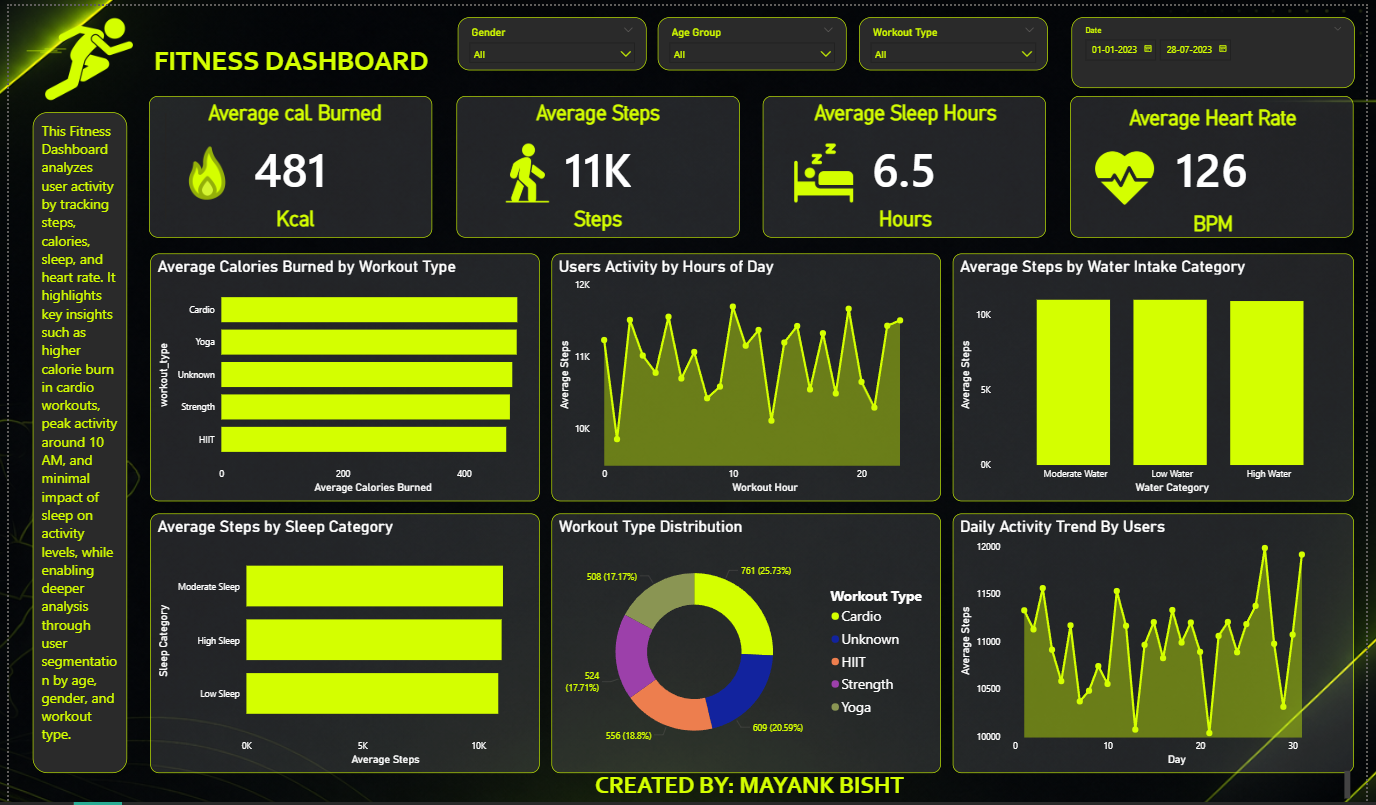

The dashboard page shown, as its layout file describes it:
{"tool":"powerbi","page":{"name":"Page 2","canvas":[1840,1080],"ordinal":0},"visuals":[{"type":"group","id":"g1","title":"Group 7","box":[608,16,256,72],"z":0,"group":"g5"},{"type":"slicer","fields":{"Values":["fitness_cleaned_dataset.Gender Cleaned"]},"box":[608,16,256,72],"z":0,"group":"g1"},{"type":"slicer","fields":{"Values":["fitness_cleaned_dataset.Age Group"]},"box":[880,16,256,72],"z":0,"group":"g2"},{"type":"slicer","fields":{"Values":["fitness_cleaned_dataset.workout_type"]},"box":[1152,16,256,72],"z":0,"group":"g3"},{"type":"slicer","fields":{"Values":["fitness_cleaned_dataset.date"]},"box":[1440,16,384,96],"z":0,"group":"g4"},{"type":"cardVisual","fields":{"Data":["fitness_cleaned_dataset.Average Calories Burned"]},"box":[190.4,121.6,384,192],"z":0},{"type":"group","id":"g2","title":"Group 7","box":[880,16,256,72],"z":1000,"group":"g5"},{"type":"cardVisual","fields":{"Data":["fitness_cleaned_dataset.Average Steps"]},"box":[606.4,121.6,384,192],"z":1000},{"type":"group","id":"g3","title":"Group 7","box":[1152,16,256,72],"z":2000,"group":"g5"},{"type":"cardVisual","fields":{"Data":["fitness_cleaned_dataset.Average sleep Hours"]},"box":[1022.4,121.6,384,192],"z":2000},{"type":"cardVisual","fields":{"Data":["fitness_cleaned_dataset.Average Heart Rate"]},"box":[1438.4,121.6,384,192],"z":3000},{"type":"textbox","box":[188.8,265.6,400,48],"z":4000},{"type":"barChart","title":"Average Calories Burned by Workout Type","fields":{"Category":["fitness_cleaned_dataset.workout_type"],"Y":["fitness_cleaned_dataset.Average Calories Burned"]},"box":[192,336,528,336],"z":4000,"group":"g6"},{"type":"textbox","box":[188.8,121.6,400,80],"z":5000},{"type":"areaChart","title":"Users Activity by Hours of Day","fields":{"Category":["fitness_cleaned_dataset.Workout Hour"],"Y":["fitness_cleaned_dataset.Average Steps"]},"box":[736,336,528,336],"z":5000,"group":"g6"},{"type":"textbox","box":[606.4,121.6,384,80],"z":6000},{"type":"columnChart","title":"Average Steps by Water Intake Category","fields":{"Category":["fitness_cleaned_dataset.Water Category"],"Y":["fitness_cleaned_dataset.Average Steps"]},"box":[1280,336,544,336],"z":6000,"group":"g6"},{"type":"textbox","box":[606.4,265.6,384,48],"z":7000},{"type":"barChart","fields":{"Category":["fitness_cleaned_dataset.Sleep Category"],"Y":["fitness_cleaned_dataset.Average Steps"]},"box":[192,688,528,352],"z":7000,"group":"g6"},{"type":"textbox","box":[1024,265.6,384,48],"z":8000},{"type":"donutChart","title":"Workout Type Distribution","fields":{"Y":["fitness_cleaned_dataset.Total Users"],"Category":["fitness_cleaned_dataset.workout_type"]},"box":[736,688,528,352],"z":8000,"group":"g6"},{"type":"textbox","box":[1024,121.6,384,80],"z":9000},{"type":"image","box":[638.4,185.6,128,80],"z":10000},{"type":"textbox","box":[1440,272,384,48],"z":10000,"group":"g7"},{"type":"textbox","box":[1440,128,384,80],"z":11000,"group":"g7"},{"type":"image","box":[1040,185.6,128,80],"z":11000},{"type":"image","box":[204.8,185.6,128,80],"z":12000},{"type":"group","id":"g4","title":"Group 7","box":[1440,16,384,96],"z":13000},{"type":"group","id":"g5","title":"Group 1","box":[608,16,800,72],"z":14000},{"type":"image","box":[1440,192,144,80],"z":14000,"group":"g7"},{"type":"group","id":"g6","title":"Group 2","box":[192,336,1632,704],"z":15000},{"type":"group","id":"g7","title":"Group 3","box":[1440,128,384,192],"z":16000},{"type":"textbox","box":[192,48,416,80],"z":17000},{"type":"image","box":[0,0,192,144],"z":18000},{"type":"textbox","box":[32,144,128,896],"z":20000},{"type":"textbox","box":[192,1032,1632,48],"z":20001},{"type":"areaChart","title":"Daily Activity Trend By Users","fields":{"Y":["fitness_cleaned_dataset.Average Steps"],"Category":["fitness_cleaned_dataset.date.Variation.Date Hierarchy.Day"]},"box":[1280,688,544,352],"z":21001,"group":"g6"}]}

Visuals, with their boxes in screenshot pixels (x1, y1, x2, y2), scaled from the page's 1840x1080 canvas onto the 1376x805 screenshot:
"Group 7" group: rect(455, 12, 646, 66)
slicer - fitness_cleaned_dataset.Gender Cleaned: rect(455, 12, 646, 66)
slicer - fitness_cleaned_dataset.Age Group: rect(658, 12, 850, 66)
slicer - fitness_cleaned_dataset.workout_type: rect(861, 12, 1053, 66)
slicer - fitness_cleaned_dataset.date: rect(1077, 12, 1364, 83)
cardVisual - fitness_cleaned_dataset.Average Calories Burned: rect(142, 91, 430, 234)
"Group 7" group: rect(658, 12, 850, 66)
cardVisual - fitness_cleaned_dataset.Average Steps: rect(453, 91, 741, 234)
"Group 7" group: rect(861, 12, 1053, 66)
cardVisual - fitness_cleaned_dataset.Average sleep Hours: rect(765, 91, 1052, 234)
cardVisual - fitness_cleaned_dataset.Average Heart Rate: rect(1076, 91, 1363, 234)
textbox: rect(141, 198, 440, 234)
"Average Calories Burned by Workout Type" barChart: rect(144, 250, 538, 501)
textbox: rect(141, 91, 440, 150)
"Users Activity by Hours of Day" areaChart: rect(550, 250, 945, 501)
textbox: rect(453, 91, 741, 150)
"Average Steps by Water Intake Category" columnChart: rect(957, 250, 1364, 501)
textbox: rect(453, 198, 741, 234)
barChart - fitness_cleaned_dataset.Sleep Category x fitness_cleaned_dataset.Average Steps: rect(144, 513, 538, 775)
textbox: rect(766, 198, 1053, 234)
"Workout Type Distribution" donutChart: rect(550, 513, 945, 775)
textbox: rect(766, 91, 1053, 150)
image: rect(477, 138, 573, 198)
textbox: rect(1077, 203, 1364, 239)
textbox: rect(1077, 95, 1364, 155)
image: rect(778, 138, 873, 198)
image: rect(153, 138, 249, 198)
"Group 7" group: rect(1077, 12, 1364, 83)
"Group 1" group: rect(455, 12, 1053, 66)
image: rect(1077, 143, 1185, 203)
"Group 2" group: rect(144, 250, 1364, 775)
"Group 3" group: rect(1077, 95, 1364, 239)
textbox: rect(144, 36, 455, 95)
image: rect(0, 0, 144, 107)
textbox: rect(24, 107, 120, 775)
textbox: rect(144, 769, 1364, 804)
"Daily Activity Trend By Users" areaChart: rect(957, 513, 1364, 775)
